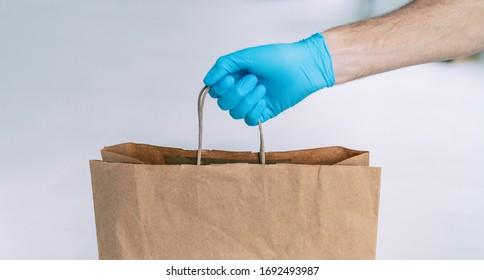gloves: (204, 34, 337, 126)
